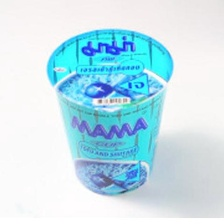paper_cup: (41, 20, 178, 202)
